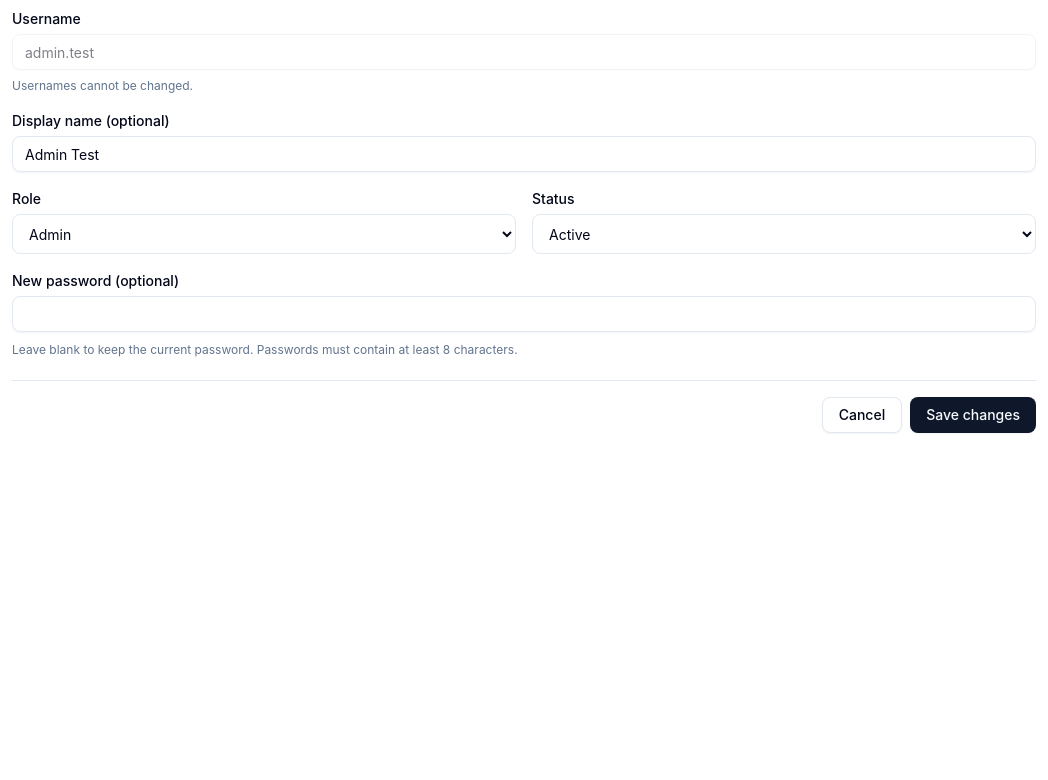
Test: user management form › keeps a failed edit open and displays the server protection
Select "User" in the dropdown labelled "Role" at {"x": 264, "y": 234}, box 12,214 -> 516,254
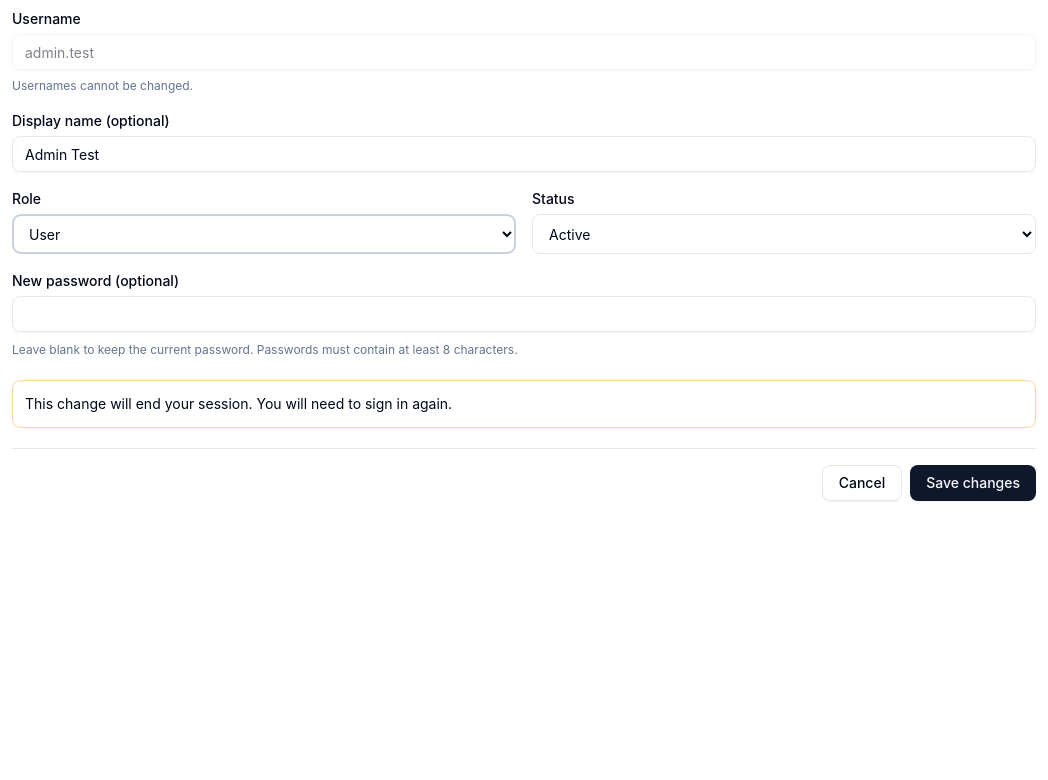
Click the button "Save changes" at {"x": 973, "y": 483}, box 910,465 -> 1036,501
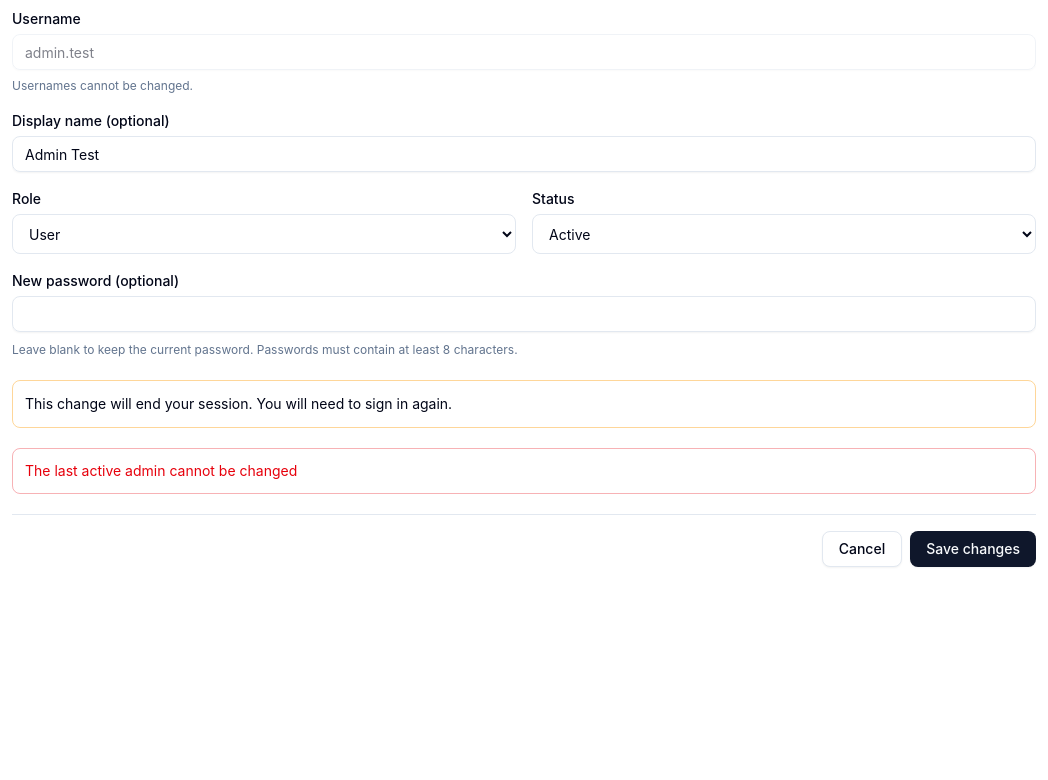
Expected: the button "Save changes" is enabled, 910,531 -> 1036,567
Now the message reads "The last active admin cannot be changed", box 25,462 -> 297,479
